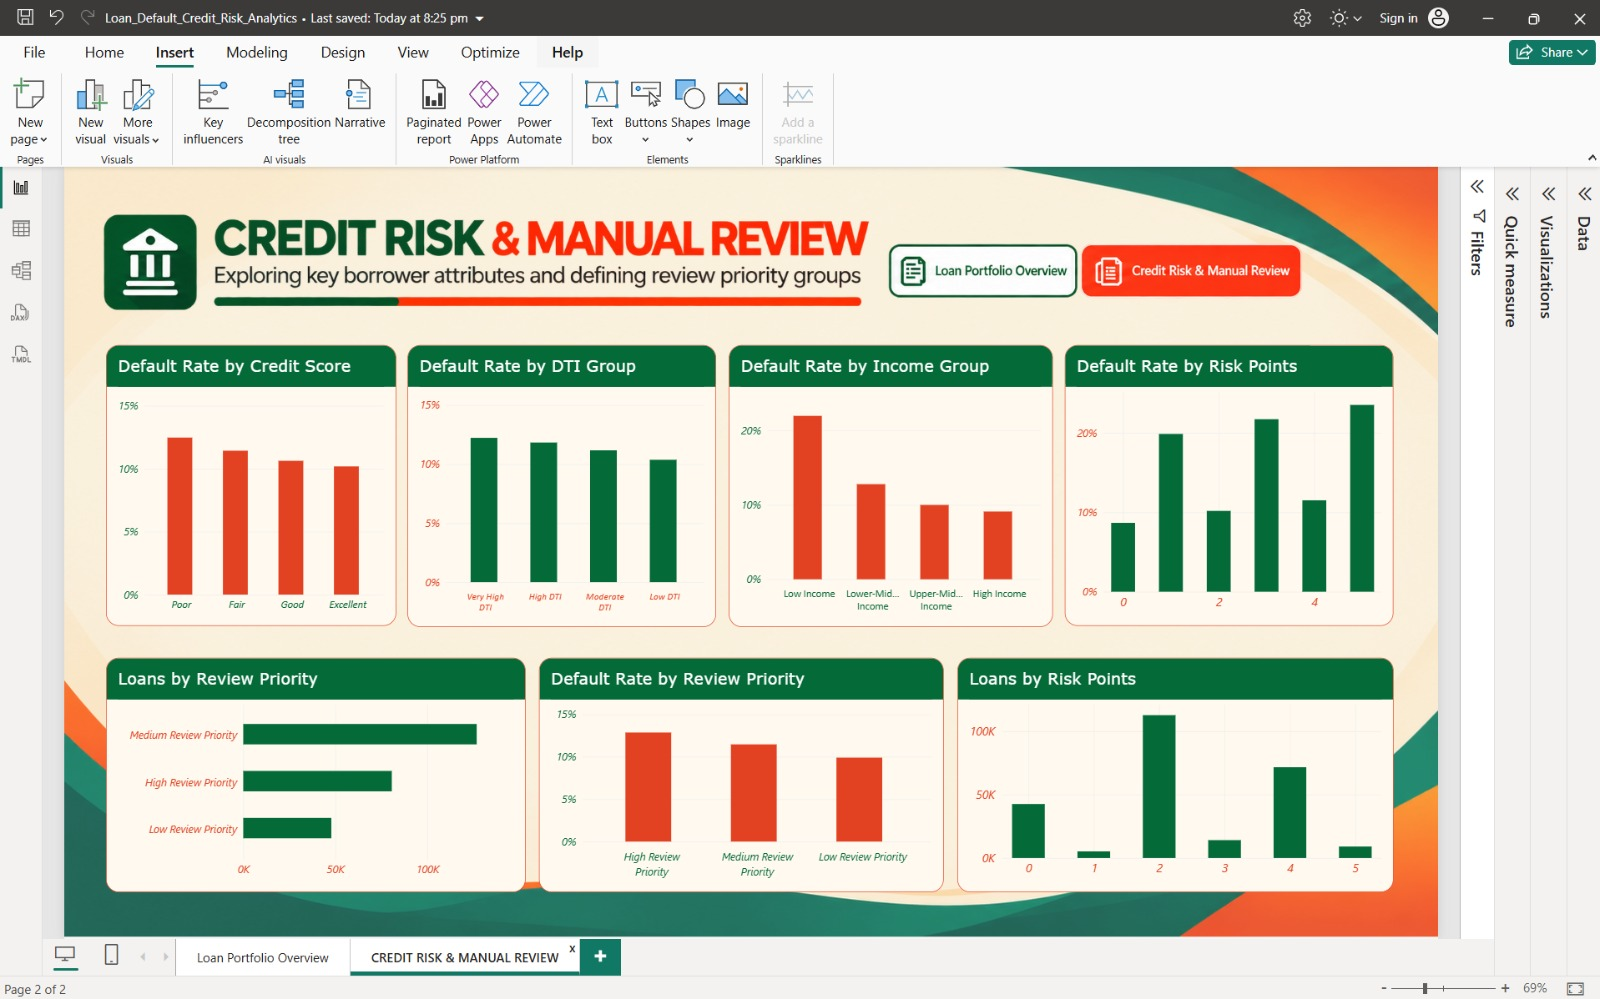

What the dashboard file says about the page in this screenshot:
{"tool":"powerbi","page":{"name":"CREDIT RISK & MANUAL REVIEW","canvas":[1920,1080],"ordinal":1},"visuals":[{"type":"clusteredColumnChart","title":"Default Rate by Credit Score","fields":{"Category":["loan_cleaned.Credit Score Group"],"Y":["loan_cleaned.Default Rate"]},"box":[58.6,248.7,405.5,392.9],"z":0},{"type":"clusteredColumnChart","title":"Default Rate by DTI Group","fields":{"Category":["loan_cleaned.DTI Group"],"Y":["loan_cleaned.Default Rate"]},"box":[480,248.7,430.9,394.5],"z":1000},{"type":"clusteredColumnChart","title":"Default Rate by Income Group","fields":{"Category":["loan_cleaned.Income Group"],"Y":["loan_cleaned.Default Rate"]},"box":[928.3,248.7,453.1,394.5],"z":2000},{"type":"clusteredBarChart","title":"Loans by Review Priority","fields":{"Category":["loan_cleaned.Review Priority"],"Y":["loan_cleaned.Total Loans"]},"box":[58.6,685.9,586.1,327.9],"z":3000},{"type":"clusteredColumnChart","title":"Default Rate by Review Priority","fields":{"Category":["loan_cleaned.Review Priority"],"Y":["loan_cleaned.Default Rate"]},"box":[663.8,685.9,565.5,327.9],"z":4000},{"type":"clusteredColumnChart","title":"Loans by Risk Points","fields":{"Category":["loan_cleaned.Risk Points"],"Y":["loan_cleaned.Total Loans"]},"box":[1248.3,685.9,609.9,327.9],"z":5000},{"type":"clusteredColumnChart","title":"Default Rate by Risk Points","fields":{"Category":["loan_cleaned.Risk Points"],"Y":["loan_cleaned.Default Rate"]},"box":[1398.8,248.7,459.4,392.9],"z":6000},{"type":"image","box":[44.4,0,1696.6,267.7],"z":6001}]}

Visuals, with their boxes on the page's 1920x1080 design canvas (x1, y1, x2, y2). These are canvas units, not pixel positions in the 1600x999 screenshot, which may show the page scaled, cropped or inside an application window:
"Default Rate by Credit Score" clusteredColumnChart: bbox=(59, 249, 464, 642)
"Default Rate by DTI Group" clusteredColumnChart: bbox=(480, 249, 911, 643)
"Default Rate by Income Group" clusteredColumnChart: bbox=(928, 249, 1381, 643)
"Loans by Review Priority" clusteredBarChart: bbox=(59, 686, 645, 1014)
"Default Rate by Review Priority" clusteredColumnChart: bbox=(664, 686, 1229, 1014)
"Loans by Risk Points" clusteredColumnChart: bbox=(1248, 686, 1858, 1014)
"Default Rate by Risk Points" clusteredColumnChart: bbox=(1399, 249, 1858, 642)
image: bbox=(44, 0, 1741, 268)
